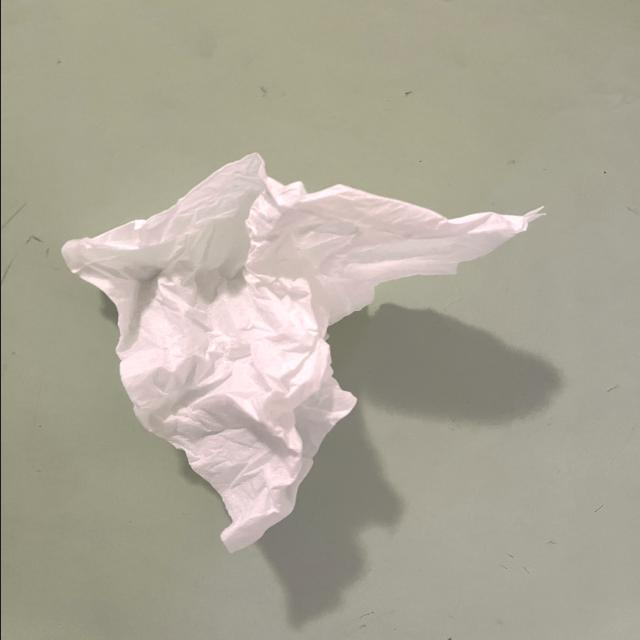Paper: (56, 173, 516, 529)
